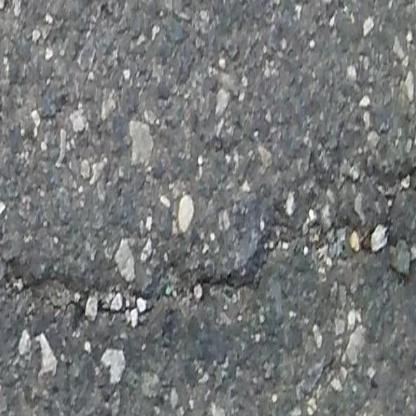Cracks: (0, 154, 416, 336)
